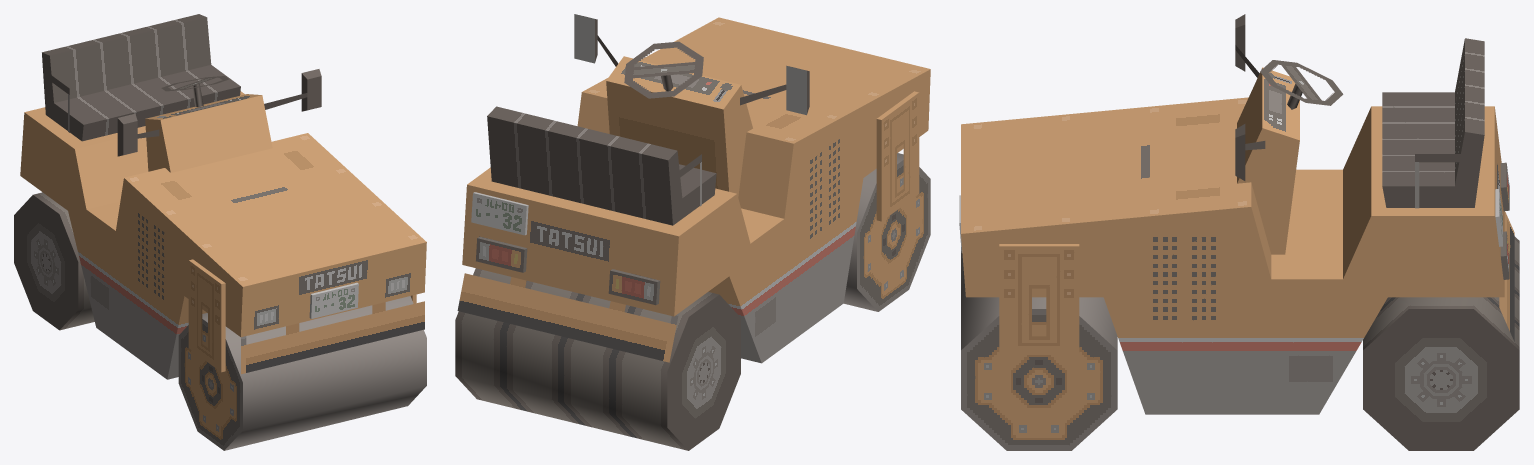
File: 01ab_Steamroller.glb
The picture shows the model from 3 angles, left to right: view 1: azimuth 30°, elevation 25°; view 2: azimuth 150°, elevation 25°; view 3: azimuth 270°, elevation 25°; orthographic projection. The views are drawn at different scales.
Visible parts, largest first — view 1: part_0, part_1, part_2; view 2: part_0, part_2, part_1; view 3: part_0, part_2, part_1.
Boxes of the visible parts, box(x1,y1,x2,y2) form: part_0: box(20, 14, 426, 379); part_1: box(178, 296, 426, 450); part_2: box(14, 192, 94, 330); part_0: box(457, 14, 930, 363); part_2: box(455, 268, 740, 450); part_1: box(843, 153, 930, 311); part_0: box(959, 14, 1514, 414); part_2: box(1363, 236, 1519, 450); part_1: box(961, 247, 1117, 450).
Size of the model in its own units: 1.71 by 2.18 by 3.37.
Materials: 3 (3 with a texture image).
